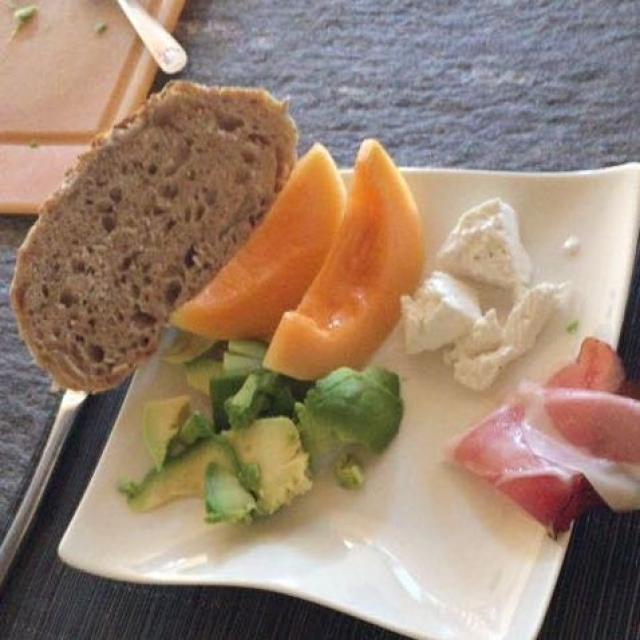avocado: (125, 362, 396, 522)
bread: (4, 78, 305, 401)
cheese: (409, 202, 560, 388)
ham: (456, 345, 637, 535)
melon: (167, 134, 434, 382)
